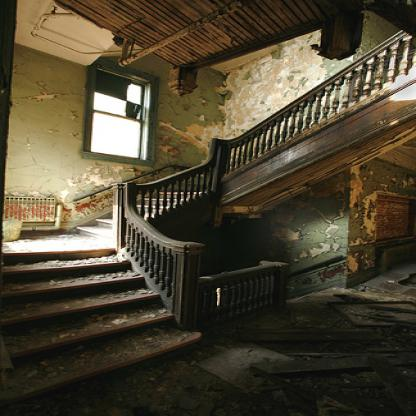stairs: (3, 303, 175, 395)
